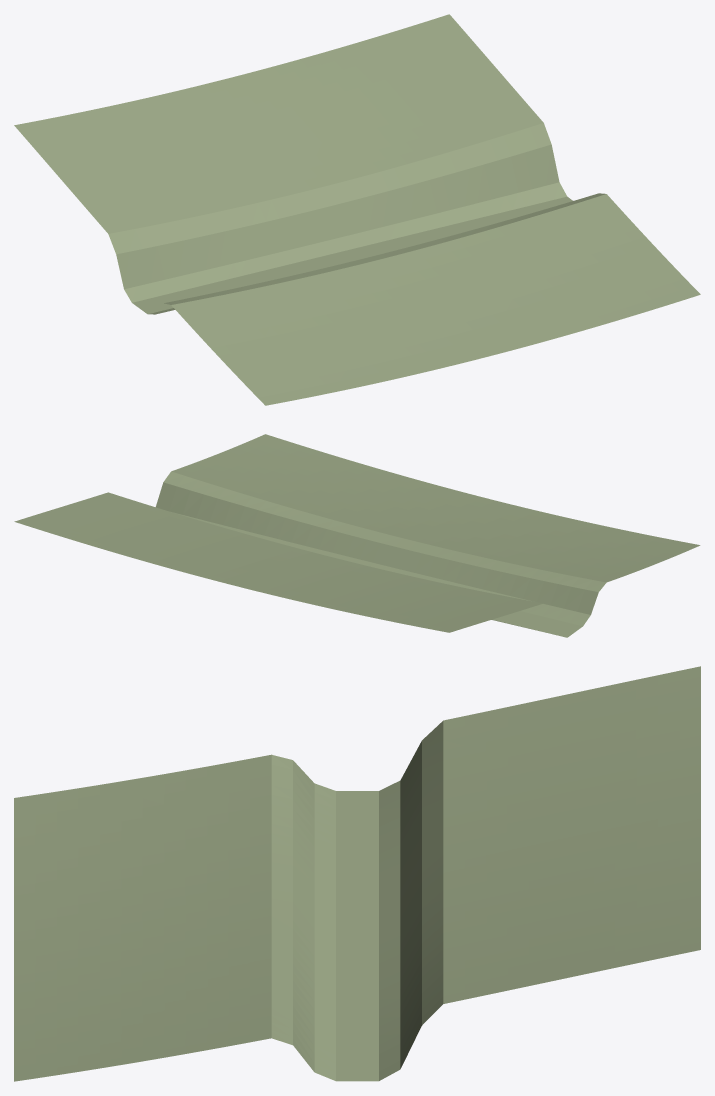
The model's file is valley-4-2.glb.
3 views of the same model, one above another, from view 1: azimuth 30°, elevation 25°; view 2: azimuth 150°, elevation 25°; view 3: azimuth 270°, elevation 25° (orthographic). The views are drawn at different scales.
Visible parts, largest first — view 1: valley-4-2; view 2: valley-4-2; view 3: valley-4-2.
Boxes of the visible parts, box(x1,y1,x2,y2) form: valley-4-2: box(14, 14, 700, 405); valley-4-2: box(14, 434, 700, 637); valley-4-2: box(14, 666, 700, 1081).
Size of the model in its own units: 256 by 59.99 by 256.
